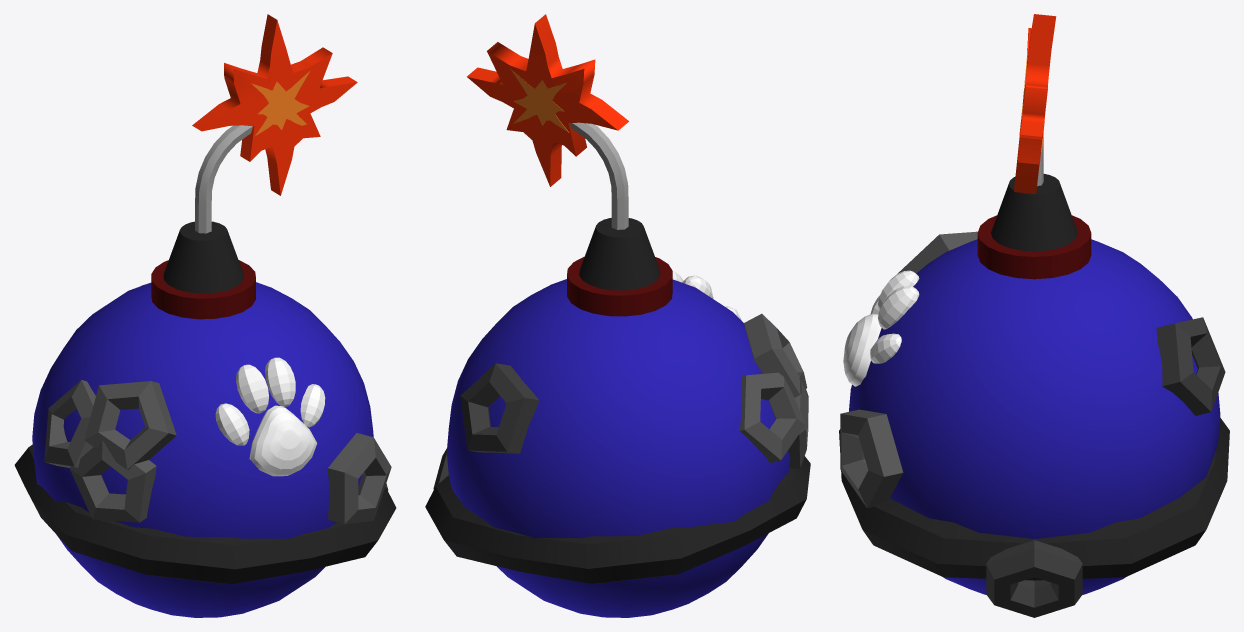
File: item_bomb.obj
The picture shows the model from 3 angles, left to right: view 1: azimuth 30°, elevation 25°; view 2: azimuth 150°, elevation 25°; view 3: azimuth 270°, elevation 25°; orthographic projection. The views are drawn at different scales.
Parts seen in each view (by area): view 1: item_bomb:group1pSphere1, item_bomb:group1pTorus1, item_bomb:group1pCube1, item_bomb:group1pTorus5, item_bomb:group1pTorus4, item_bomb:group1pCylinder1, item_bomb:pTorus6group1, item_bomb:group1pSphere2, item_bomb:group1pCylinder2, item_bomb:group1pTorus7, item_bomb:group1pCylinder3, item_bomb:group1pCube2 (+4 smaller); view 2: item_bomb:group1pSphere1, item_bomb:group1pTorus1, item_bomb:group1pCube1, item_bomb:group1pTorus2, item_bomb:group1pCylinder1, item_bomb:group1pTorus7, item_bomb:group1pCylinder2, item_bomb:group1pTorus5, item_bomb:group1pCylinder3, item_bomb:group1pCube2, item_bomb:pTorus6group1; view 3: item_bomb:group1pSphere1, item_bomb:group1pTorus1, item_bomb:group1pTorus3, item_bomb:group1pTorus4, item_bomb:group1pTorus2, item_bomb:group1pCylinder1, item_bomb:group1pCube1, item_bomb:group1pCylinder2, item_bomb:group1pSphere2, item_bomb:group1pTorus5, item_bomb:group1pSphere3, item_bomb:group1pSphere5 (+1 smaller).
Part boxes in pixels (box(x1,y1,x2,y2)): item_bomb:group1pSphere1: box(32, 282, 373, 617); item_bomb:group1pTorus1: box(14, 444, 396, 584); item_bomb:group1pCube1: box(192, 14, 357, 195); item_bomb:group1pTorus5: box(84, 381, 176, 469); item_bomb:group1pTorus4: box(327, 433, 391, 523); item_bomb:group1pCylinder1: box(163, 221, 243, 293); item_bomb:pTorus6group1: box(69, 440, 156, 522); item_bomb:group1pSphere2: box(249, 405, 317, 476); item_bomb:group1pCylinder2: box(151, 260, 255, 319); item_bomb:group1pTorus7: box(44, 380, 95, 467); item_bomb:group1pCylinder3: box(195, 125, 252, 233); item_bomb:group1pCube2: box(251, 71, 309, 135); item_bomb:group1pSphere1: box(446, 279, 790, 617); item_bomb:group1pTorus1: box(425, 456, 810, 583); item_bomb:group1pCube1: box(467, 14, 628, 186); item_bomb:group1pTorus2: box(460, 363, 539, 453); item_bomb:group1pCylinder1: box(579, 218, 660, 290); item_bomb:group1pTorus7: box(739, 372, 805, 463); item_bomb:group1pCylinder2: box(567, 256, 672, 316); item_bomb:group1pTorus5: box(744, 313, 807, 397); item_bomb:group1pCylinder3: box(570, 122, 628, 229); item_bomb:group1pCube2: box(510, 68, 569, 132); item_bomb:pTorus6group1: box(788, 381, 808, 468); item_bomb:group1pSphere1: box(849, 239, 1220, 594); item_bomb:group1pTorus1: box(839, 418, 1229, 580); item_bomb:group1pTorus3: box(986, 540, 1082, 617); item_bomb:group1pTorus4: box(840, 409, 903, 508); item_bomb:group1pTorus2: box(1156, 317, 1225, 415); item_bomb:group1pCylinder1: box(991, 174, 1077, 251); item_bomb:group1pCube1: box(1014, 14, 1056, 194); item_bomb:group1pCylinder2: box(977, 215, 1091, 279); item_bomb:group1pSphere2: box(843, 313, 881, 386); item_bomb:group1pTorus5: box(897, 231, 977, 273); item_bomb:group1pSphere3: box(878, 286, 919, 329); item_bomb:group1pSphere5: box(870, 333, 901, 363).
Size of the model in its own units: 2.03 by 3.23 by 1.88.
